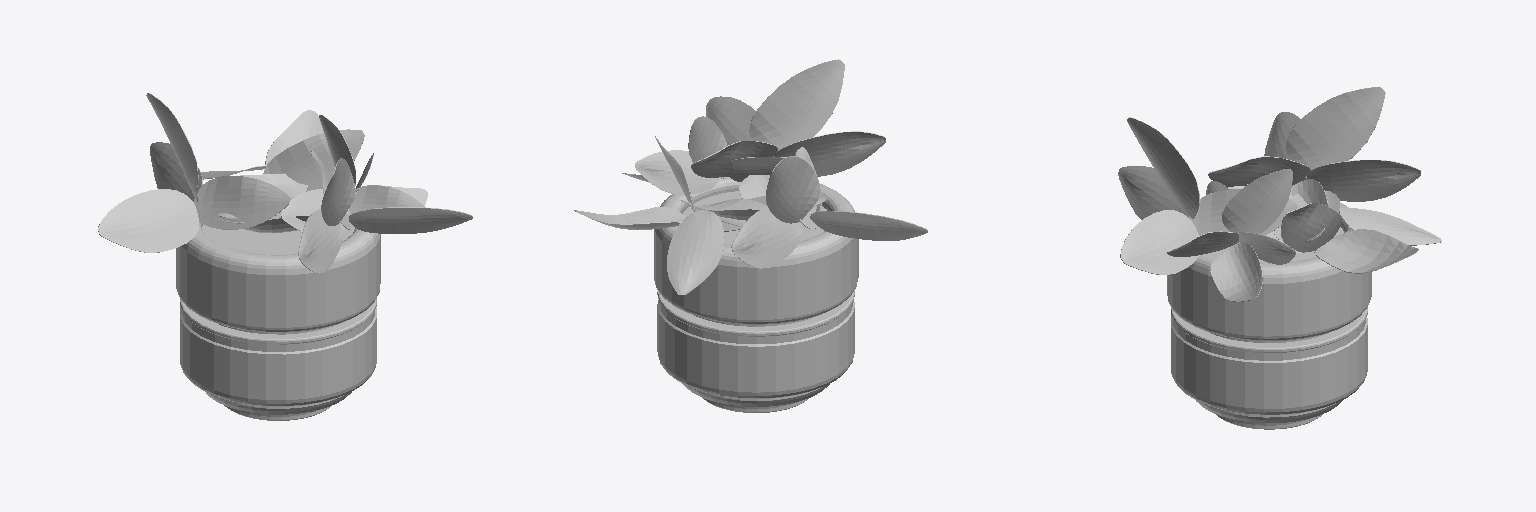
File: SetA_PottedPlant_Style_01_Comb.obj
3 renders of one model, left to right at view 1: azimuth 30°, elevation 25°; view 2: azimuth 150°, elevation 25°; view 3: azimuth 270°, elevation 25°, orthographic.
Visible parts, largest first — view 1: SetA_PottedPlant_Style_02, SetA_PottedPlant_Style_01_Leaves; view 2: SetA_PottedPlant_Style_01_Leaves, SetA_PottedPlant_Style_02; view 3: SetA_PottedPlant_Style_01_Leaves, SetA_PottedPlant_Style_02.
Part boxes in pixels (x1,y1,x2,y2): SetA_PottedPlant_Style_02: (176,222,380,420); SetA_PottedPlant_Style_01_Leaves: (98,93,472,273); SetA_PottedPlant_Style_01_Leaves: (574,59,927,295); SetA_PottedPlant_Style_02: (654,177,858,412); SetA_PottedPlant_Style_01_Leaves: (1118,87,1441,301); SetA_PottedPlant_Style_02: (1167,203,1371,429).
Size of the model in its own units: 0.3482 by 0.2958 by 0.3083.